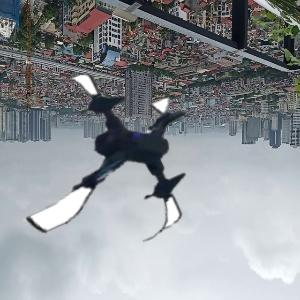drone: (7, 63, 205, 261)
